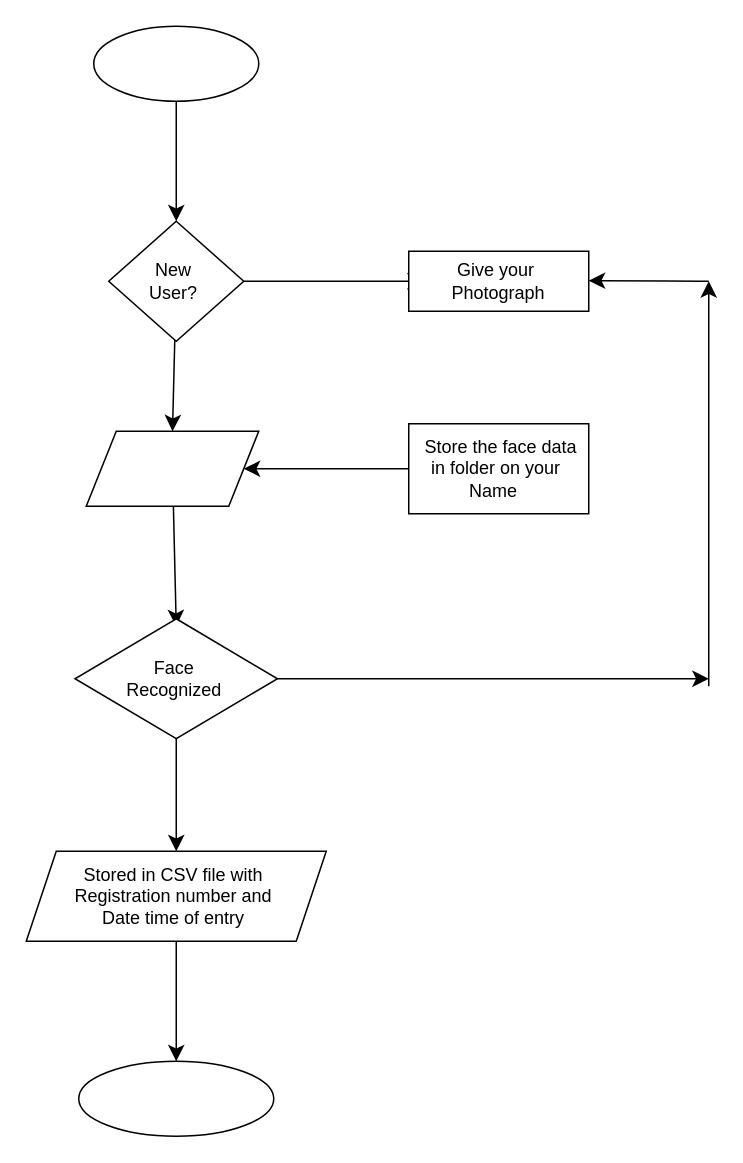
Image size: 743x1163. Some labels were removed from this diagram. Here are the shapes that lost their labels. From the top down, the centre of each, then its label:
(x=175, y=63): Start
(x=172, y=468): Recognise the Face
(x=175, y=1098): End
